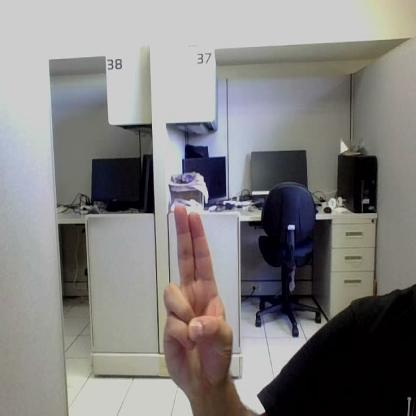U: (164, 206, 232, 394)
